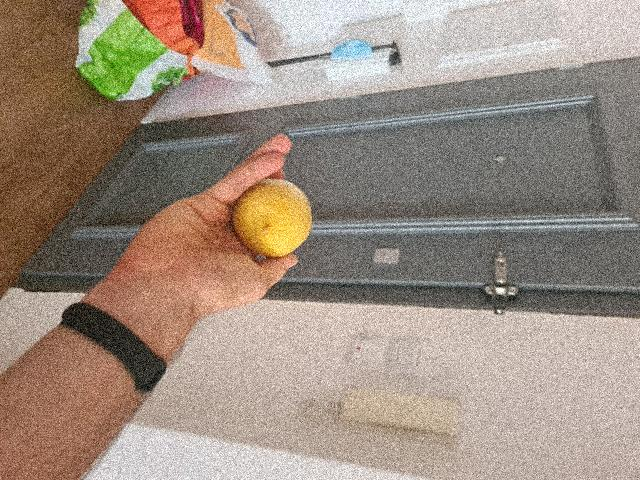lemon: (230, 178, 313, 254)
